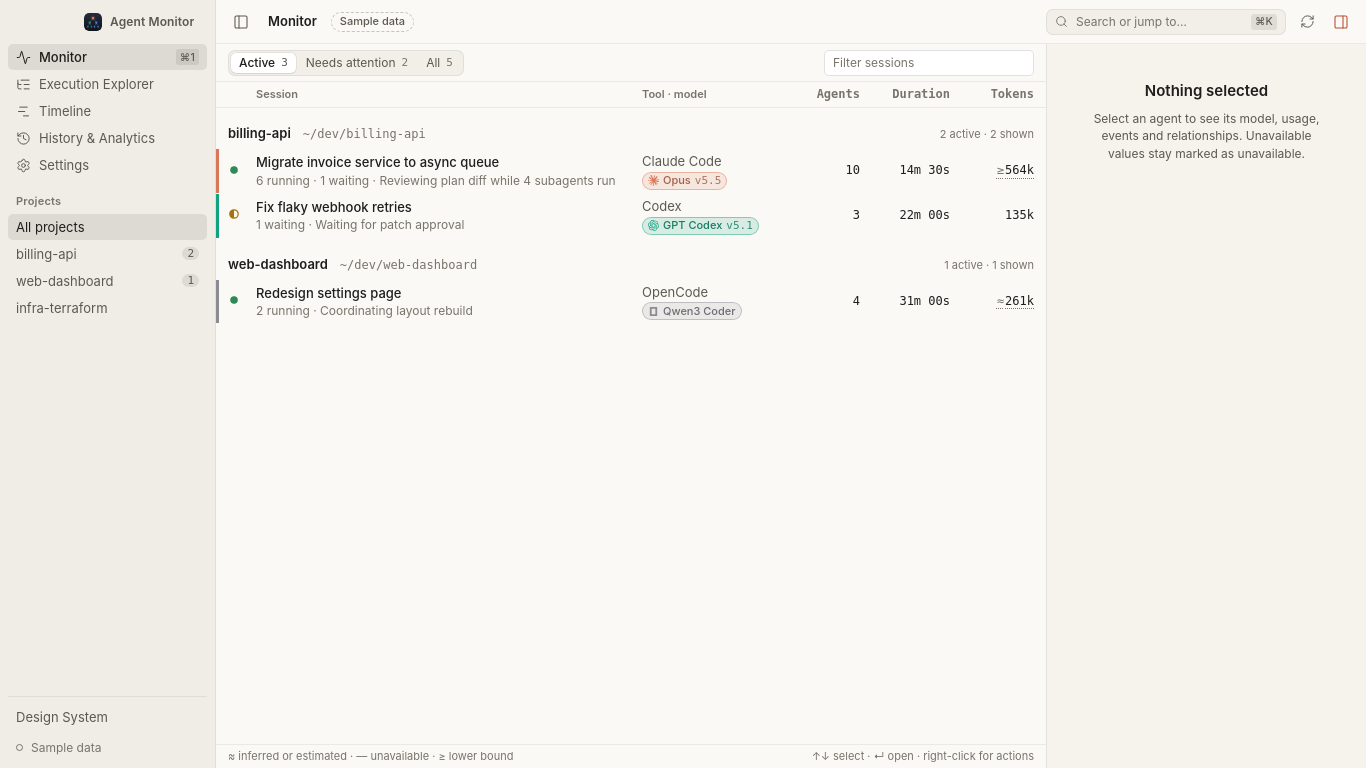
Scenario: views (sample source) › renders History & Analytics and keeps the sample label visible
Click the button "History & Analytics": (108, 138) [8,125,207,151]
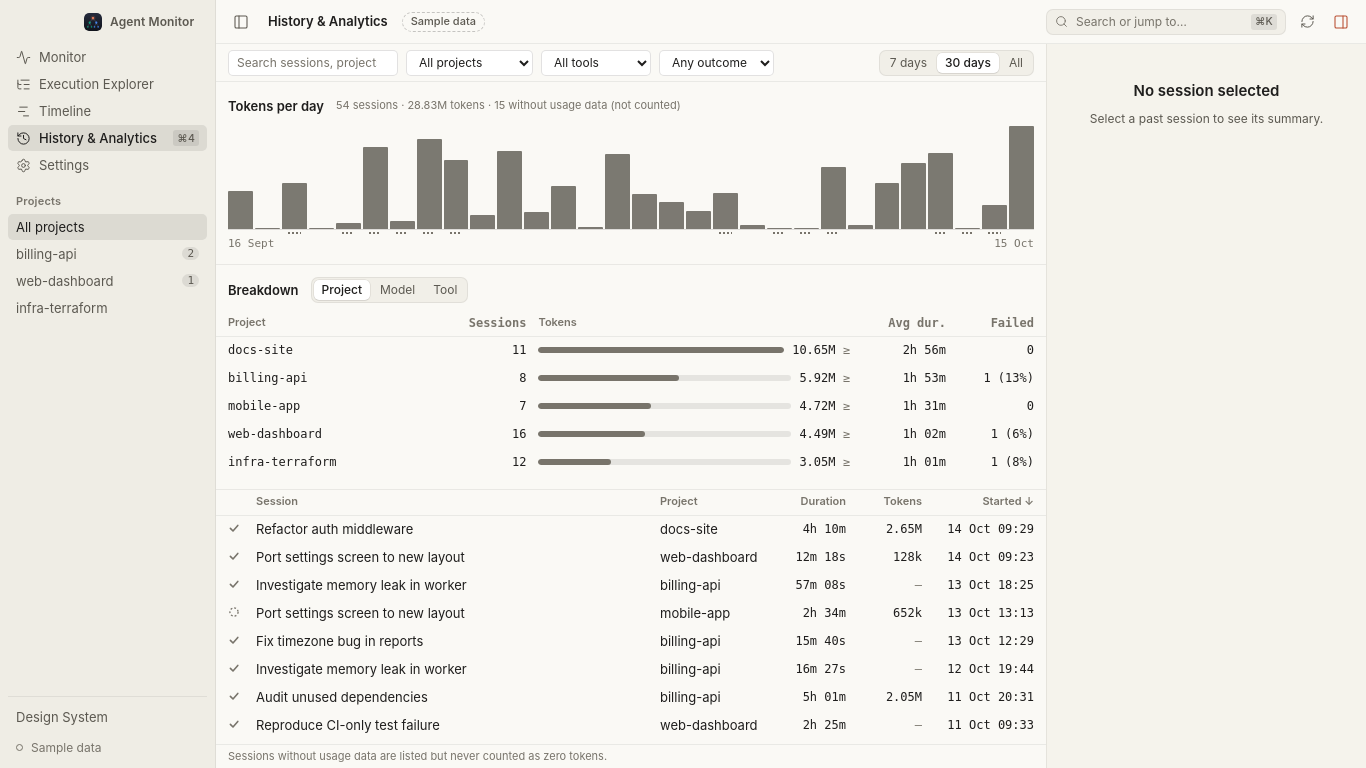
Expected: the 2nd text "Sample data" is shown, [31,739,101,756]
Expected: the heading "History & Analytics" is shown, [268,12,388,31]
